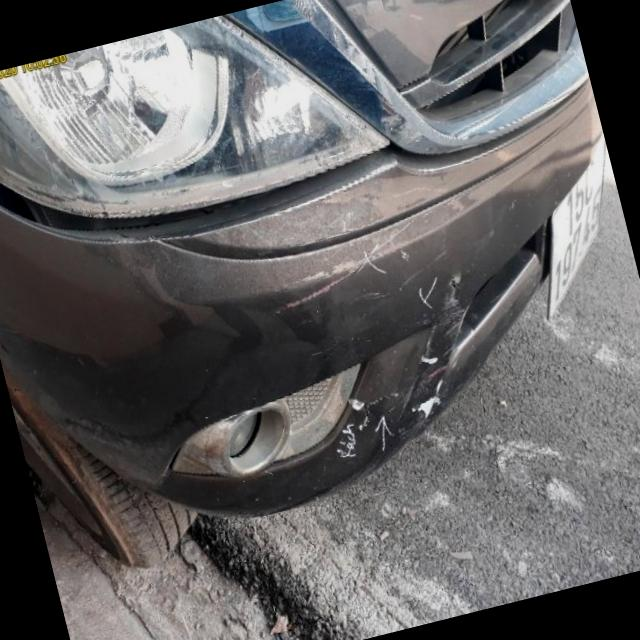Dechirure: (0, 115, 62, 257)
Phare abime: (0, 24, 226, 230)
Rayure: (245, 196, 445, 325), (370, 279, 499, 442)
